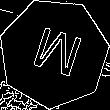M_S: (25, 22, 83, 84)
